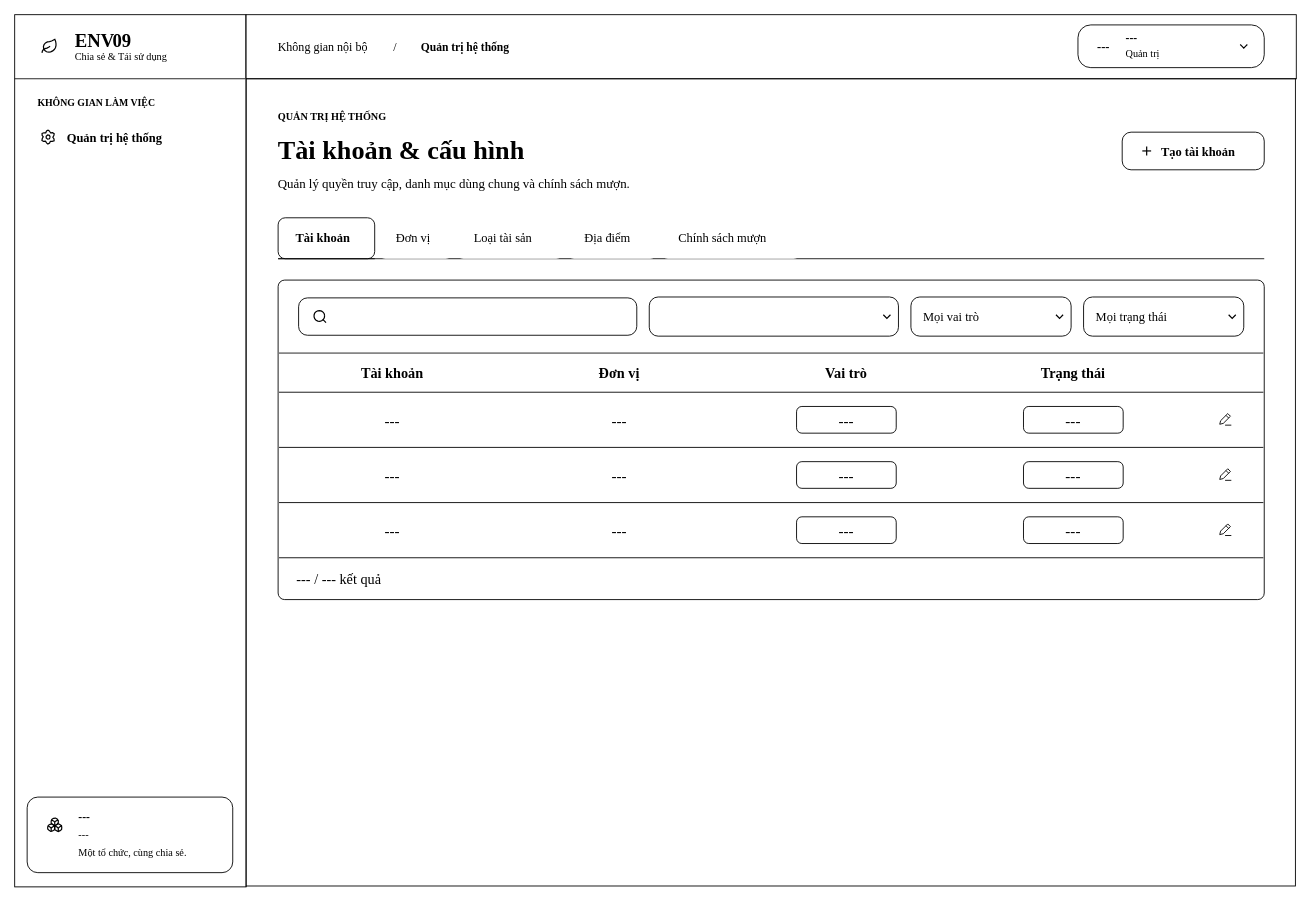
This 1311x902 diagram has some shape labels left out. The shapes that lost their labels are listed below. From the top down, each one's box as (x1, y1, x2, y2) in pixels, then its label:
(336, 301, 630, 331): Tìm theo họ tên hoặc tên đăng nhập…
(648, 296, 898, 336): Mọi đơn vị
